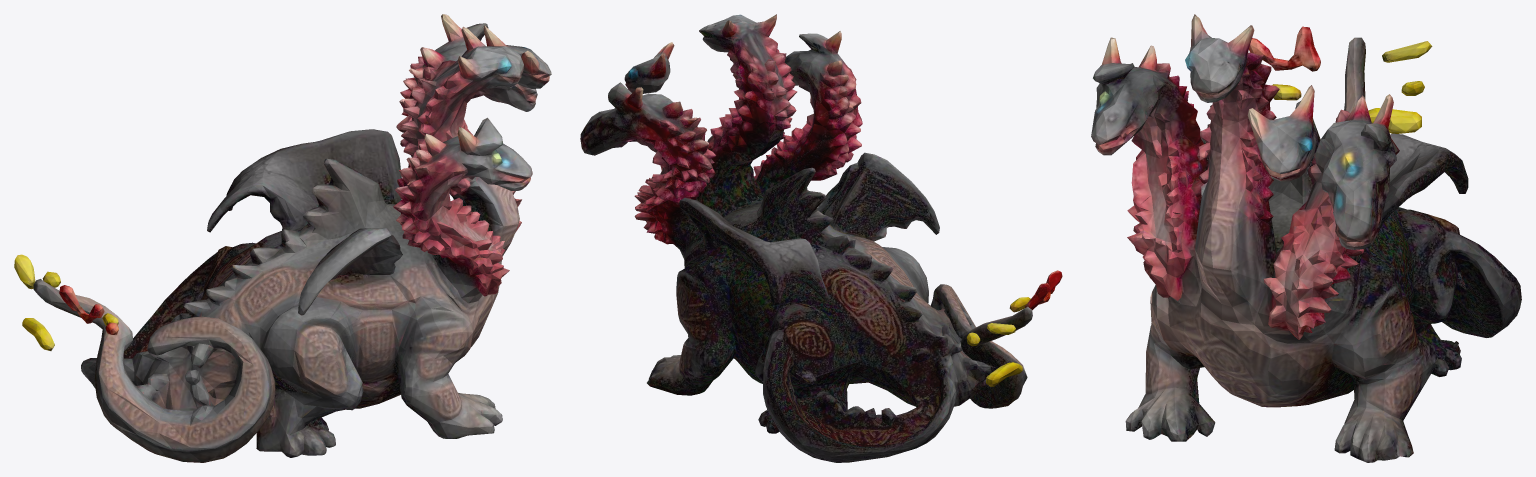
The model's file is smolderhead__emberquill.glb.
3 views of the same model, side by side, from view 1: azimuth 30°, elevation 25°; view 2: azimuth 150°, elevation 25°; view 3: azimuth 270°, elevation 25° (orthographic). The views are drawn at different scales.
Parts seen in each view (by area): view 1: world; view 2: world; view 3: world.
Part boxes in pixels (x1,y1,x2,y2): world: (14,14,551,462); world: (580,14,1062,462); world: (1091,14,1521,462).
Size of the model in its own units: 0.9976 by 0.7072 by 0.6445.
1 material, 1 textured.
